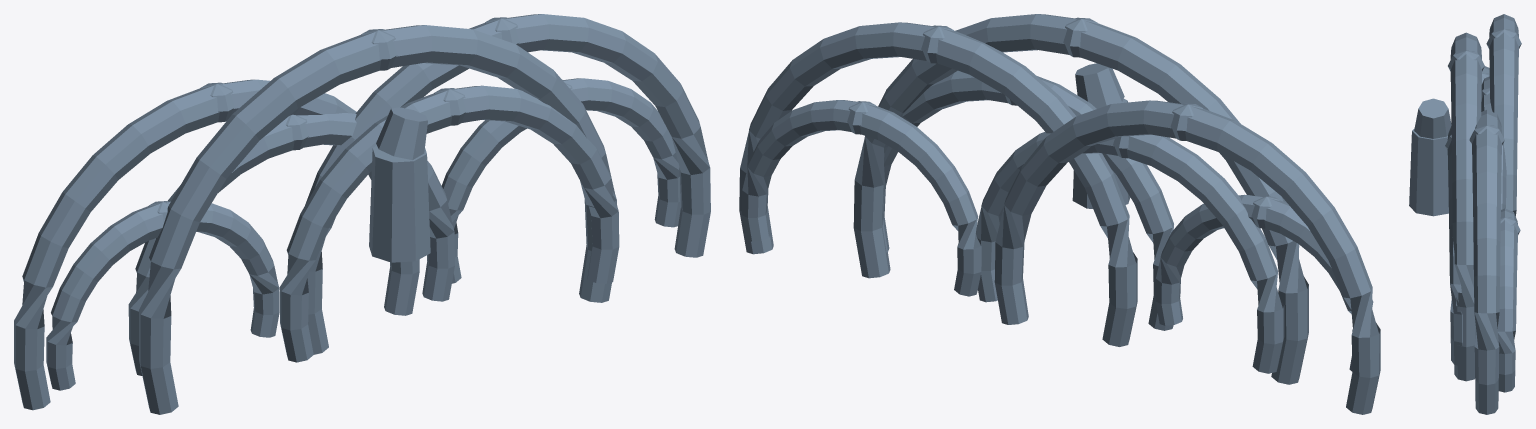
Rendered from GiantRibs.fbx.
3 views of the same model, side by side, from view 1: azimuth 30°, elevation 25°; view 2: azimuth 150°, elevation 25°; view 3: azimuth 270°, elevation 25° (orthographic). The views are drawn at different scales.
Parts seen in each view (by area): view 1: GiantRibs; view 2: GiantRibs; view 3: GiantRibs.
Part boxes in pixels (x1,y1,x2,y2): GiantRibs: (14,14,710,414); GiantRibs: (739,14,1380,414); GiantRibs: (1409,14,1521,414).
Size of the model in its own units: 4196 by 1920 by 788.
